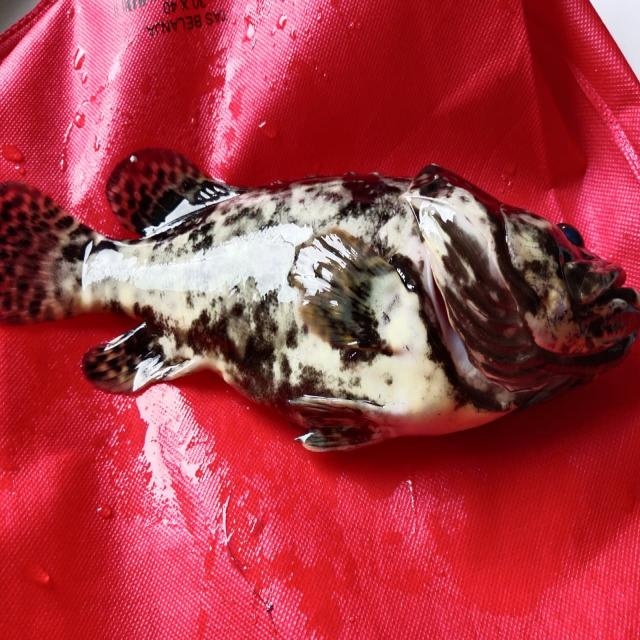ikan: (8, 126, 630, 470)
